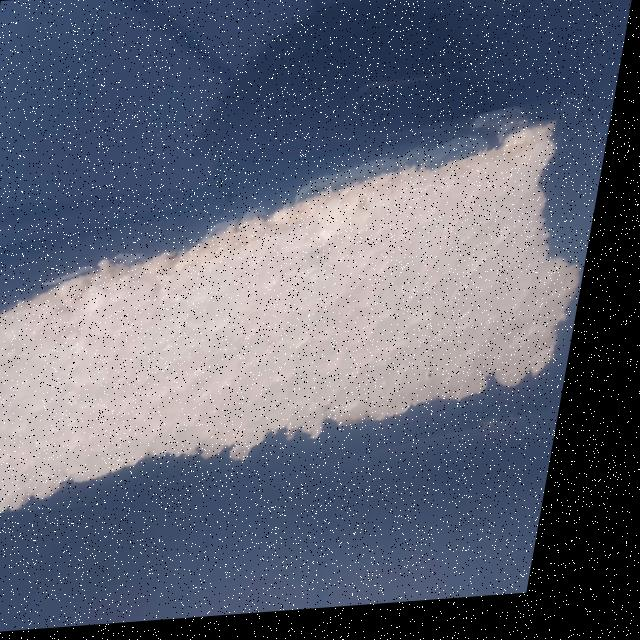litter: (0, 122, 618, 519)
